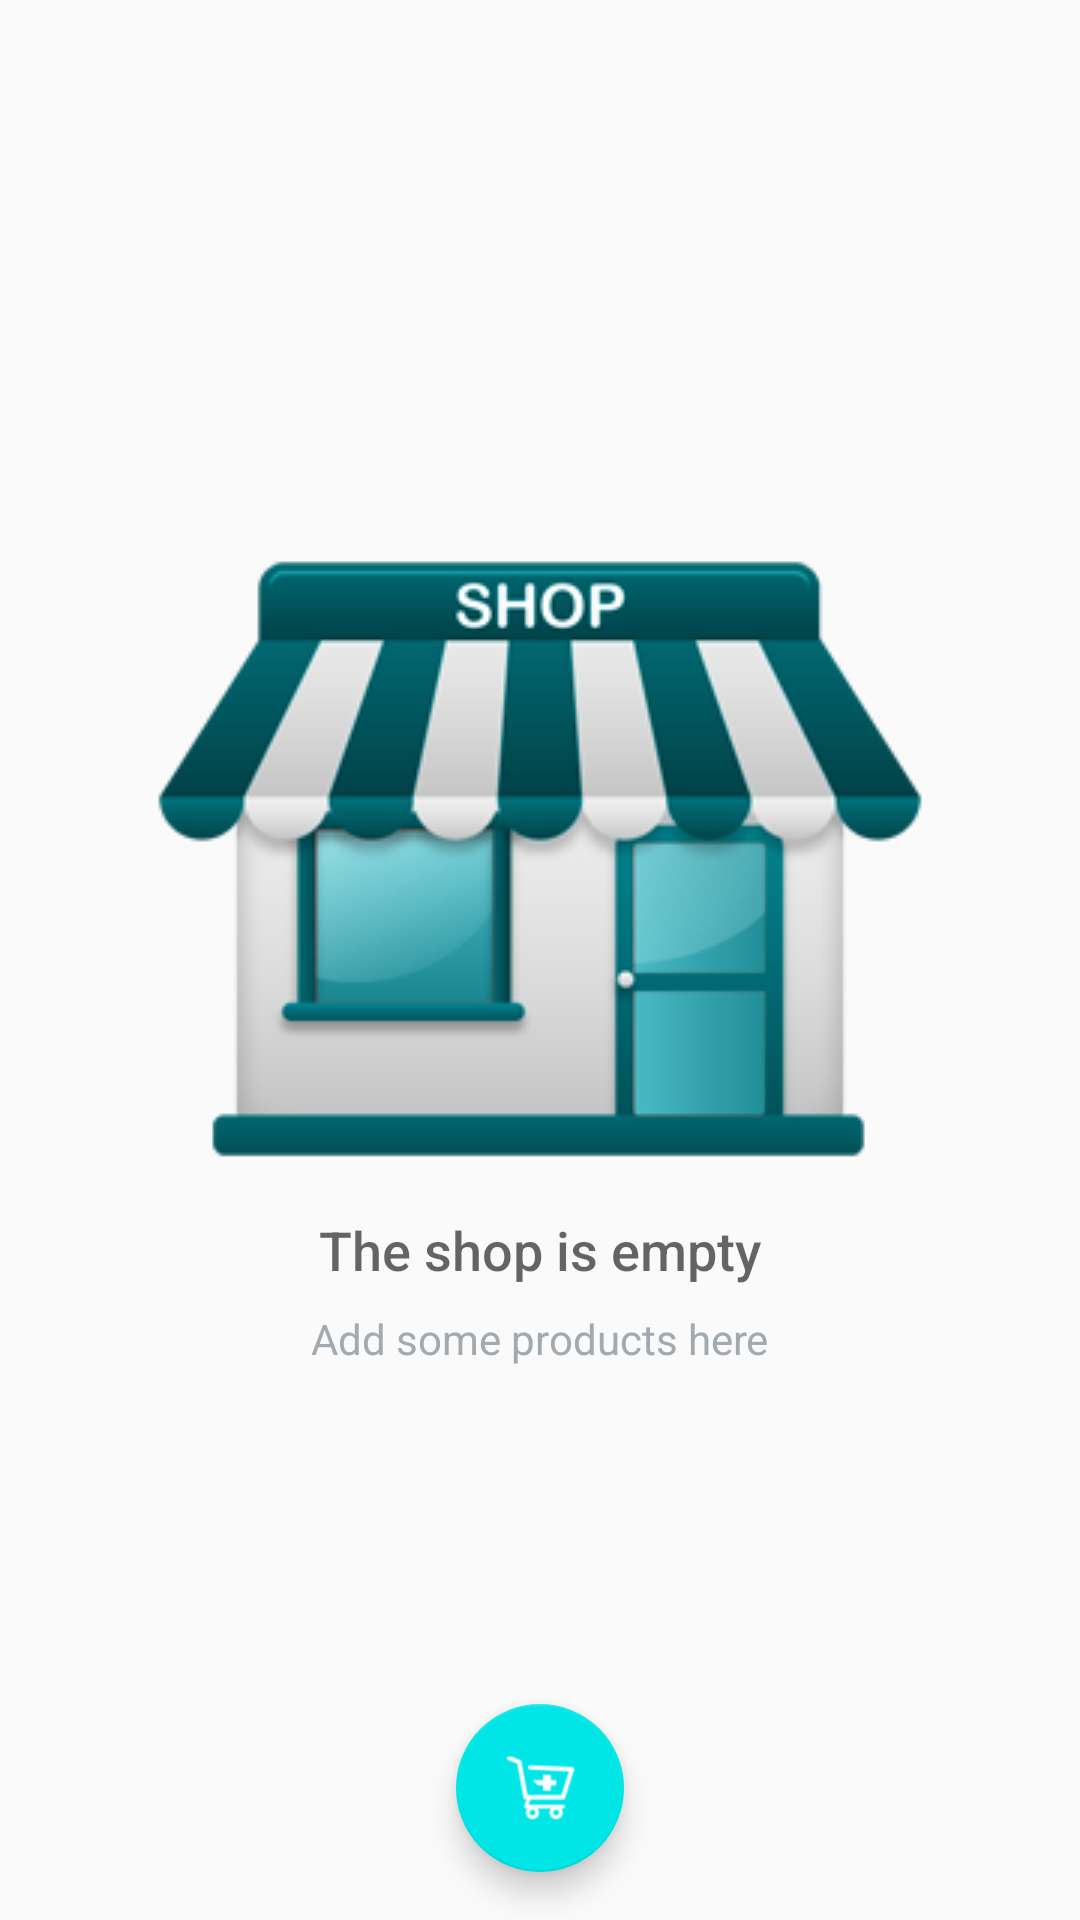

Icons on this 1080w x 1920h Android screen, each with the point to tap as (x=x, y=y):
cart: (x=540, y=1788)
